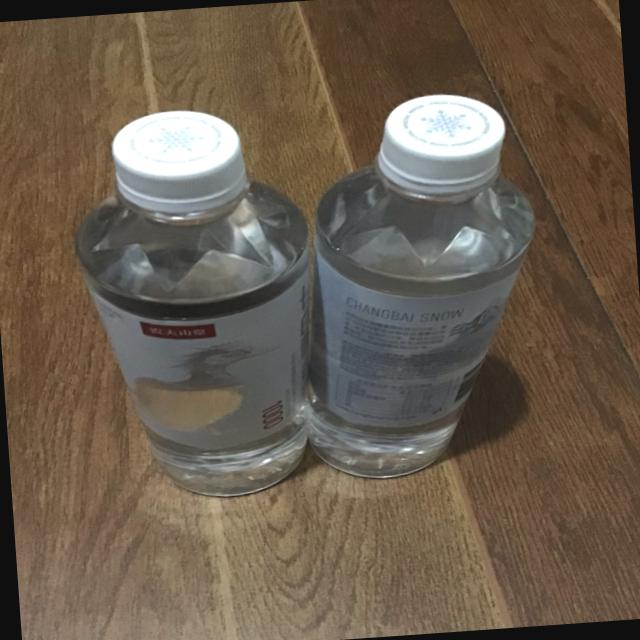bottle: (283, 84, 558, 486), (64, 99, 327, 506)
